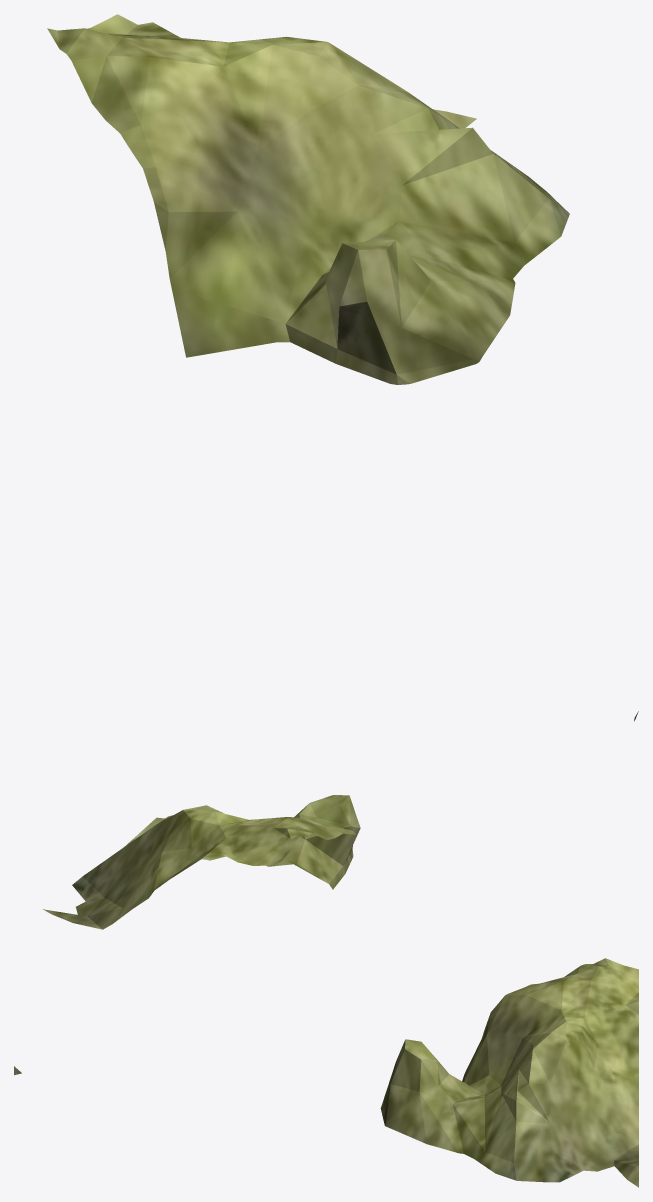
3 views of the same model, one above another, from view 1: azimuth 30°, elevation 25°; view 2: azimuth 150°, elevation 25°; view 3: azimuth 270°, elevation 25° (orthographic). The views are drawn at different scales.
Bounding box in the file's own units: 1.28 × 0.6001 × 2.95.
1 material, 1 textured.
